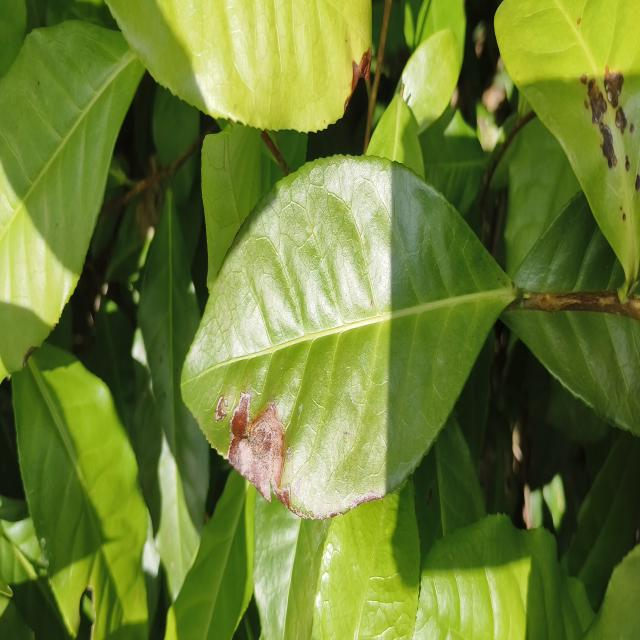Leaf: (181, 156, 516, 518), (0, 21, 144, 376), (494, 0, 640, 291), (12, 342, 148, 640), (107, 0, 372, 132), (127, 190, 211, 600), (413, 515, 593, 640), (311, 481, 419, 640), (165, 470, 256, 640), (562, 434, 640, 610), (414, 415, 486, 562), (419, 107, 485, 216), (396, 29, 460, 132), (153, 86, 200, 169), (172, 153, 197, 206)
